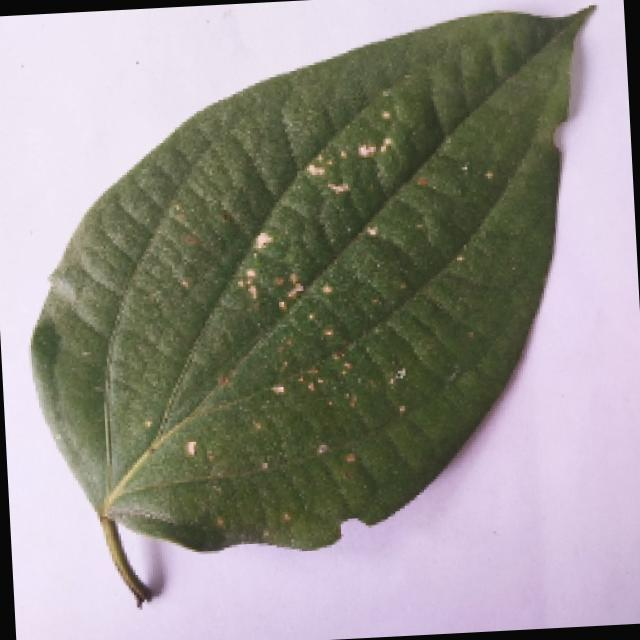pollu-disease: (28, 33, 634, 622)
